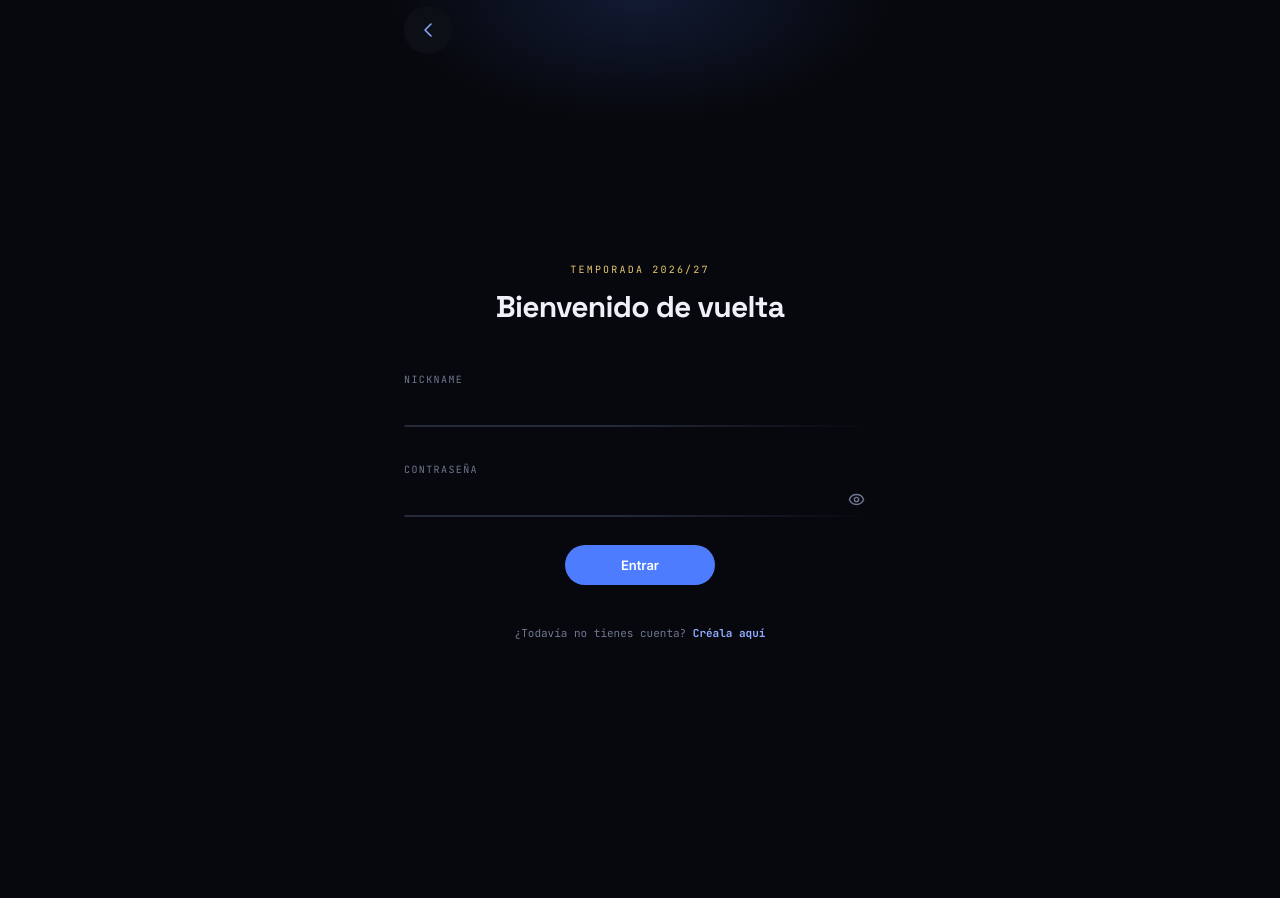
Test: la aplicación › muestra el perfil con el estado de pago, la curiosidad y las gráficas
Type "lucia" into the field labelled "Nickname".
click(640, 409); type("lucia")  # box [404,393,876,425]
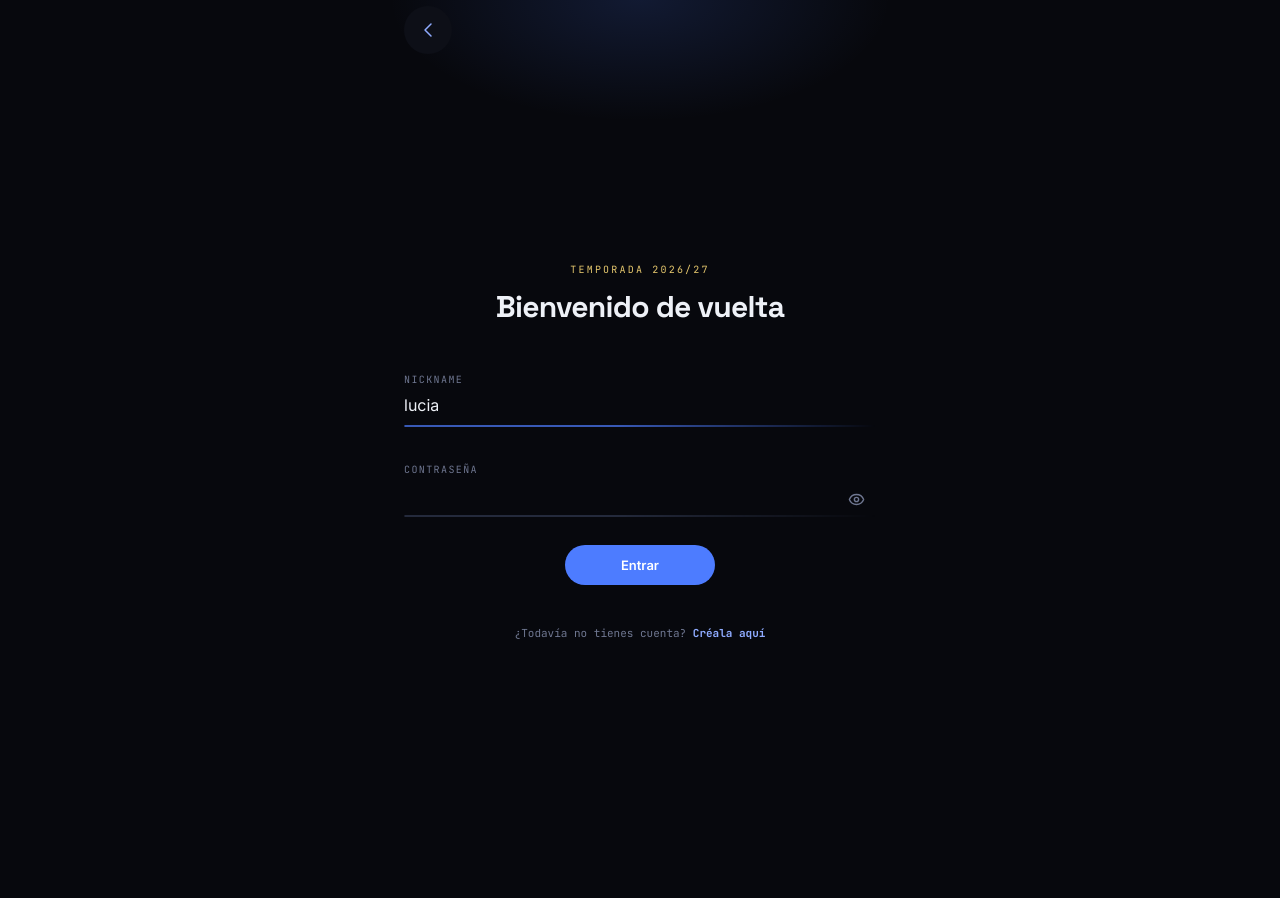
Type "champions" into the password field labelled "Contraseña".
click(640, 499); type("champions")  # box [404,483,876,515]
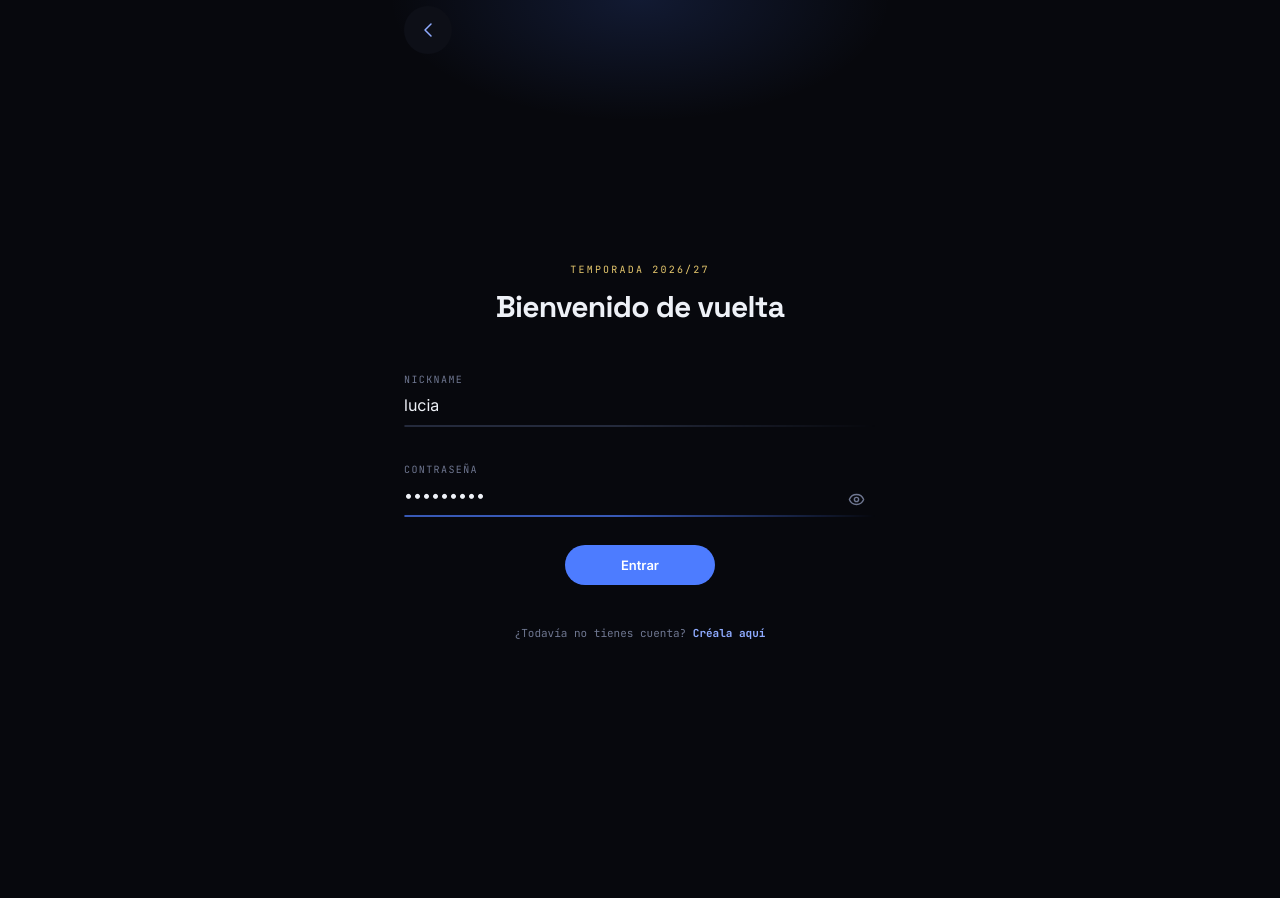
Click the button "Entrar".
click(640, 565)  # box [565,545,715,585]
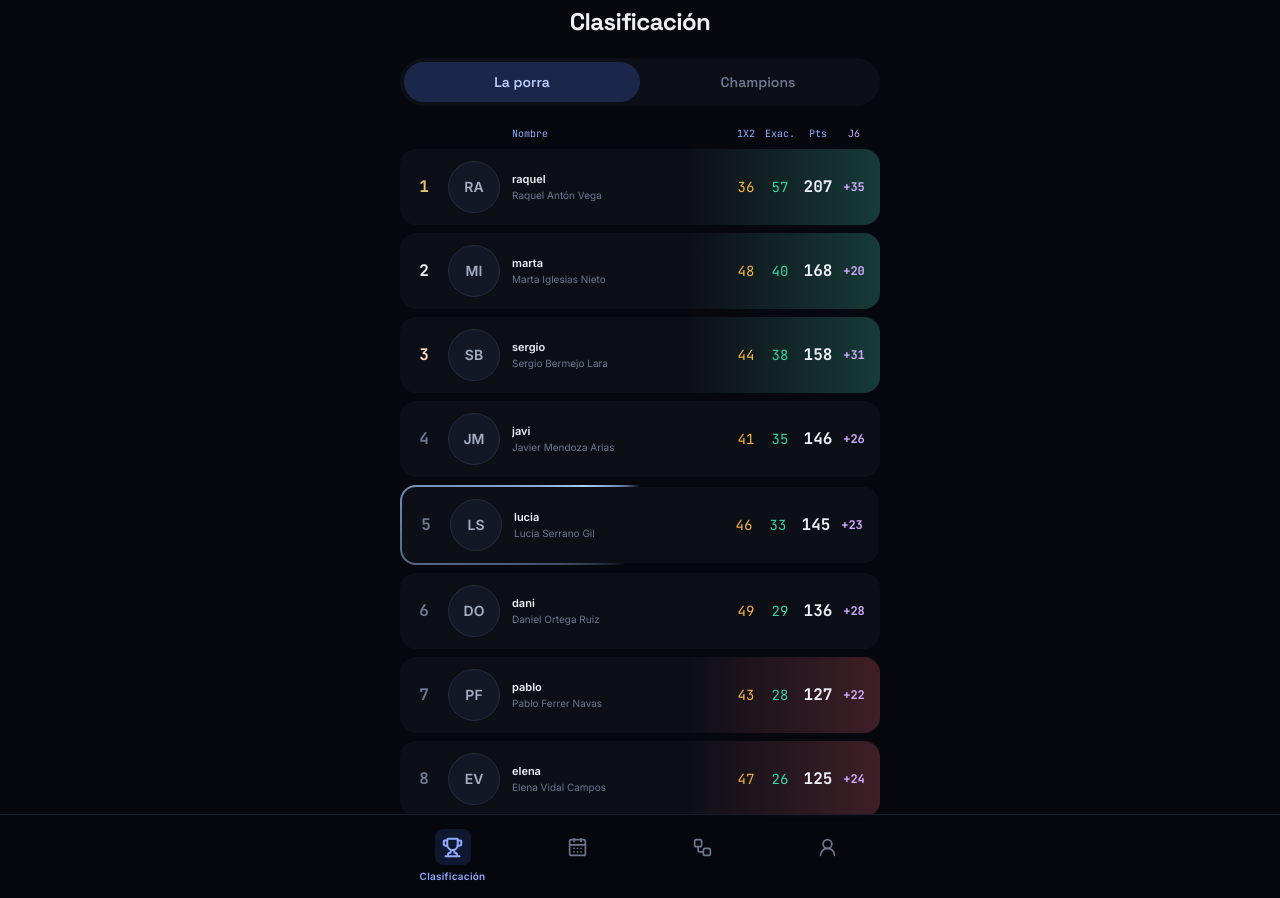
Now the heading "Clasificación" is shown, box [570,6,710,38]
Now the text "lucia" is shown, box [514,510,539,524]
Click the link named "Perfil".
click(828, 847)  # box [817,836,838,858]
(page scrolled)
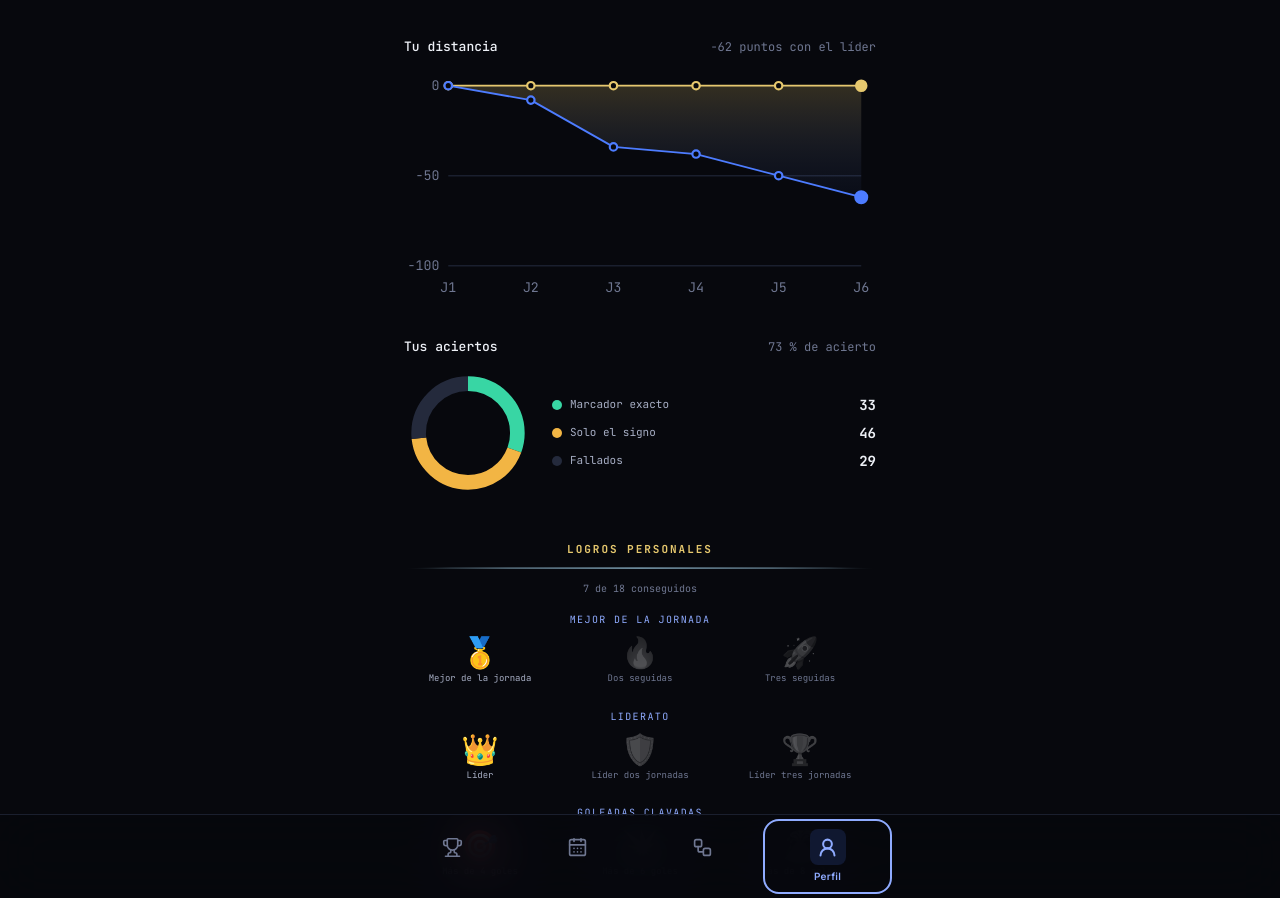
Now the picture named "puntos que te saca el líder" is shown, box [404,68,876,301]
Now the picture named "De 108 pronósticos: 33 con el marcador exacto, 46 solo con e" is shown, box [404,369,532,497]
